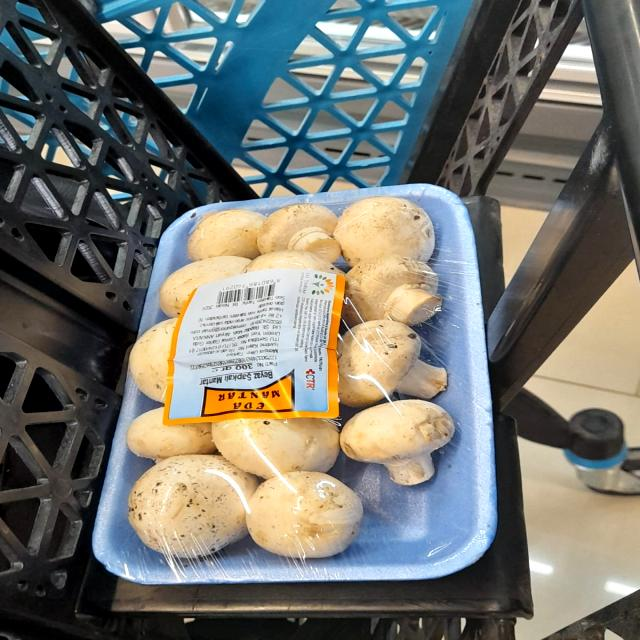mushroom: (123, 447, 264, 566), (323, 320, 468, 406), (241, 469, 371, 564), (327, 187, 456, 276), (332, 397, 460, 486), (334, 251, 458, 331), (255, 199, 346, 264)
